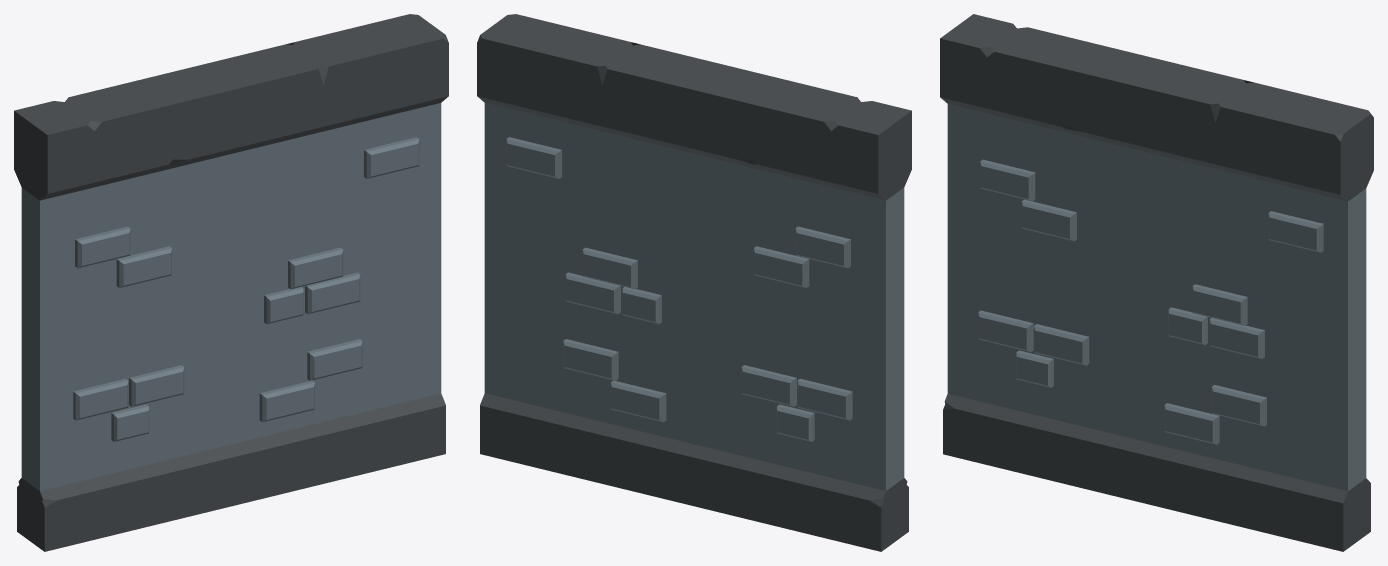
File: wall_1_1.glb
3 renders of one model, left to right at view 1: azimuth 30°, elevation 25°; view 2: azimuth 150°, elevation 25°; view 3: azimuth 330°, elevation 25°, orthographic.
Visible parts, largest first — view 1: wall_1_1; view 2: wall_1_1; view 3: wall_1_1.
Boxes of the visible parts, bbox=[...] form: wall_1_1: bbox=[14, 14, 448, 551]; wall_1_1: bbox=[477, 14, 911, 551]; wall_1_1: bbox=[940, 14, 1373, 551].
Size of the model in its own units: 1.53 by 1.53 by 0.2219.
Materials: 1 (1 with a texture image).
